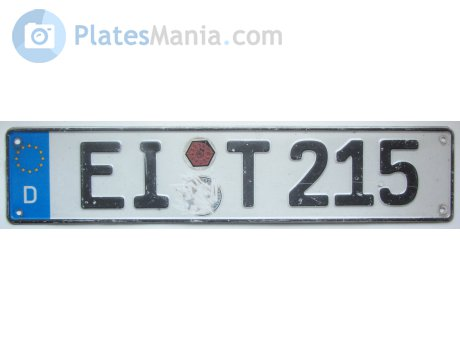License Plates: (67, 142, 438, 213)
